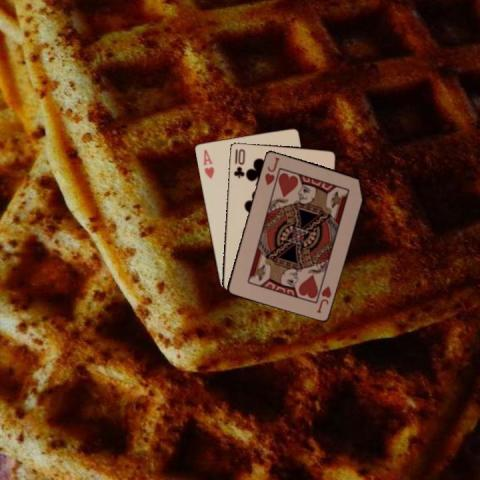10c: (231, 146, 246, 179)
Ah: (200, 146, 216, 180)
Jh: (313, 282, 333, 314), (262, 154, 281, 187)
